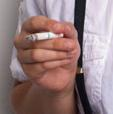smoke: (22, 30, 66, 41)
